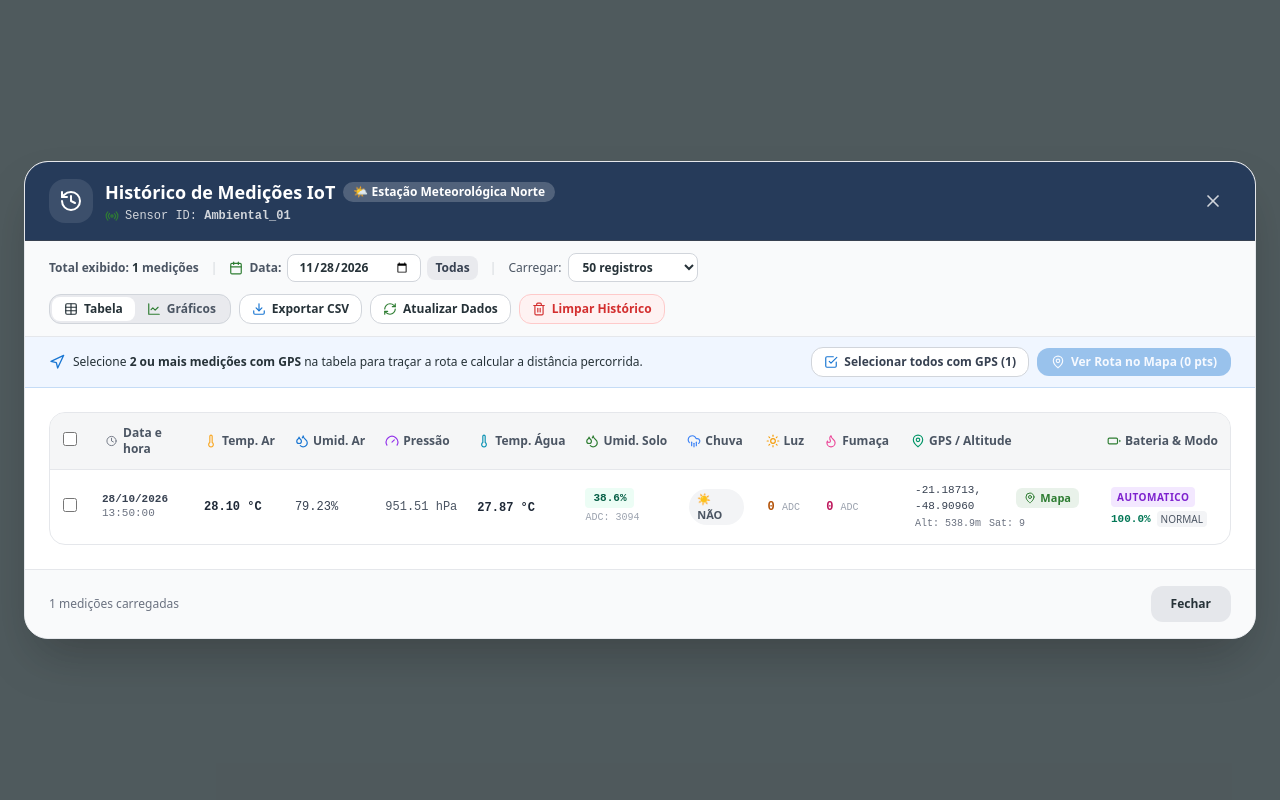
Test: Modal de Histórico de Telemetria (HistoricoMedicoesModal) › exibe todos os dados da estação ambiental no histórico
This screenshot has width=1280, height=800.
Expected: the text "AUTOMATICO" is shown, [1111,487,1196,507]
Expected: the text "Temp. Ar" is shown, [222,433,275,449]
Note: Alterna para a aba de Gráficos
Click the button "Gráficos".
click(181, 309)  # box [135,297,228,321]
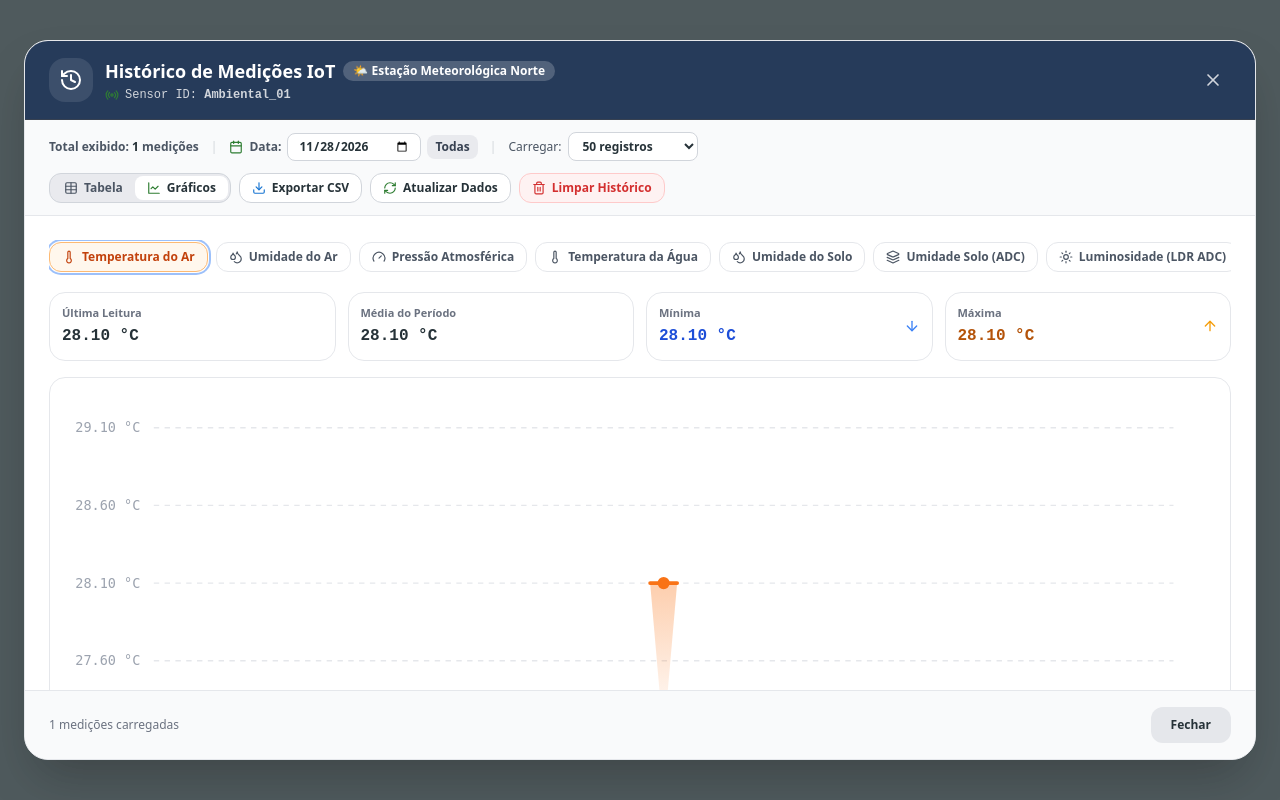
Now the button "Temperatura da Água" is shown, box [535,242,711,272]
Now the button "Luminosidade (LDR ADC)" is shown, box [1046,242,1231,272]
Now the text "Média do Período" is shown, box [360,305,456,320]
